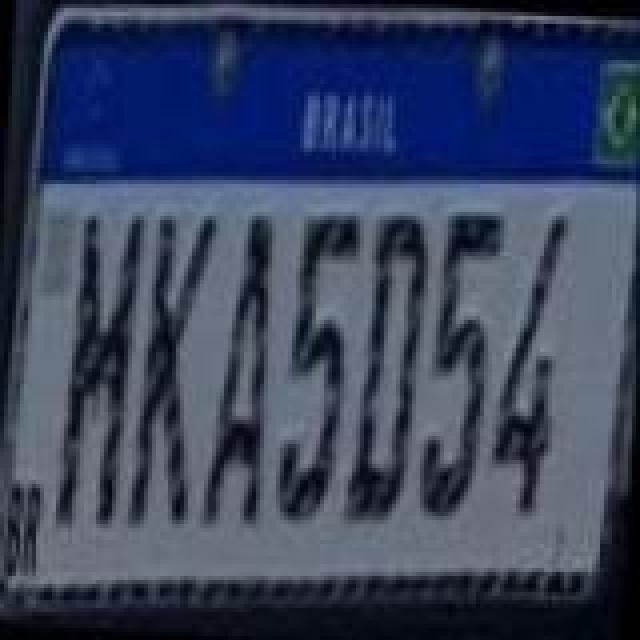4: (492, 212, 568, 524)
5: (420, 206, 504, 522), (278, 204, 358, 528)
A: (200, 208, 276, 528)
D: (348, 210, 432, 534)
K: (130, 212, 218, 540)
M: (58, 208, 146, 536)
